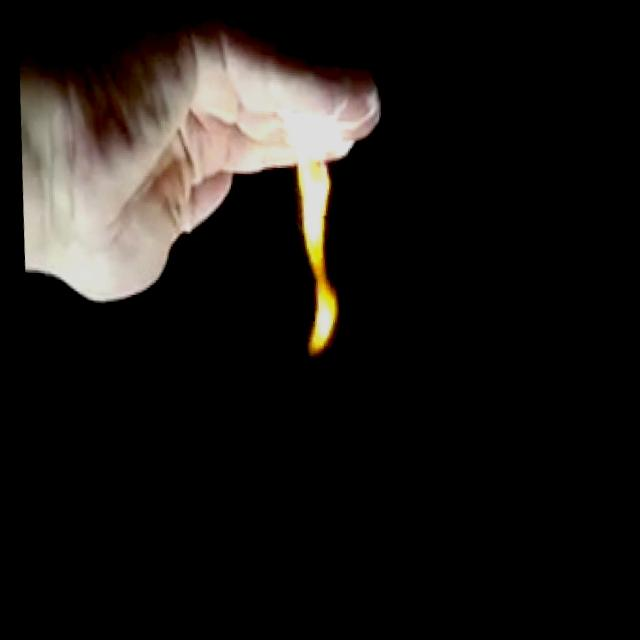Fire: (271, 121, 351, 364)
